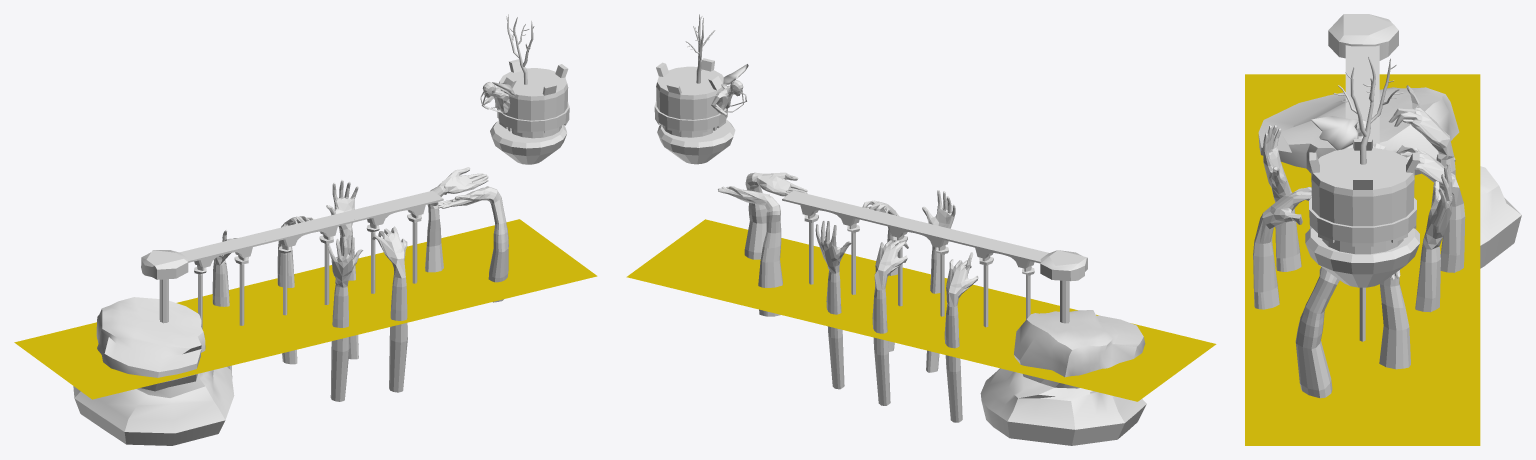
Rendered from bridge.fbx.
The picture shows the model from 3 angles, left to right: view 1: azimuth 30°, elevation 25°; view 2: azimuth 150°, elevation 25°; view 3: azimuth 270°, elevation 25°; orthographic projection. The views are drawn at different scales.
Parts seen in each view (by area): view 1: Plane, Cube.008, Cylinder.003, Cube.006, Cube.007, Cube.002, Cube, Cube.001, Cube.010, Cube.009, Cylinder.001, borderPillar (+4 smaller); view 2: Plane, Cube.008, Cylinder.003, Cube.004, Cube.005, Cube.003, Cube.002, Cube.009, Cube, Cube.001, Cube.010, Cylinder.001 (+3 smaller); view 3: Plane, Cylinder.003, Cube.008, Cylinder.001, Cube.010, Cube.006, Cube.003, Cube.004, Cube.007, Cube.009, borderPillar, Cube.001 (+6 smaller).
Boxes of the visible parts, box(x1,y1,x2,y2) form: Plane: box(14, 219, 597, 399); Cube.008: box(73, 297, 234, 445); Cylinder.003: box(497, 59, 569, 133); Cube.006: box(372, 226, 407, 392); Cube.007: box(328, 236, 362, 401); Cube.002: box(344, 190, 443, 293); Cube: box(256, 212, 355, 315); Cube.001: box(180, 233, 270, 329); Cube.010: box(437, 186, 508, 302); Cube.009: box(425, 167, 488, 272); Cylinder.001: box(490, 120, 567, 164); borderPillar: box(141, 250, 188, 323); Plane: box(626, 219, 1216, 401); Cube.008: box(980, 310, 1146, 445); Cylinder.003: box(654, 58, 727, 133); Cube.004: box(872, 240, 908, 405); Cube.005: box(944, 252, 978, 422); Cube.003: box(815, 221, 851, 389); Cube.002: box(782, 190, 882, 294); Cube.009: box(718, 186, 782, 316); Cube: box(871, 212, 971, 316); Cube.001: box(957, 233, 1048, 327); Cube.010: box(744, 172, 807, 259); Cylinder.001: box(657, 119, 735, 164); Plane: box(1245, 74, 1480, 445); Cylinder.003: box(1309, 139, 1419, 246); Cube.008: box(1258, 87, 1521, 268); Cylinder.001: box(1305, 228, 1419, 287); Cube.010: box(1295, 267, 1339, 398); Cube.006: box(1253, 187, 1311, 309); Cube.003: box(1415, 163, 1452, 312); Cube.004: box(1396, 145, 1465, 272); Cube.007: box(1263, 124, 1301, 271); Cube.009: box(1379, 270, 1410, 369); borderPillar: box(1328, 14, 1398, 60); Cube.001: box(1345, 45, 1379, 106).
Bounding box in the file's own units: 94419 × 55730 × 29349.
